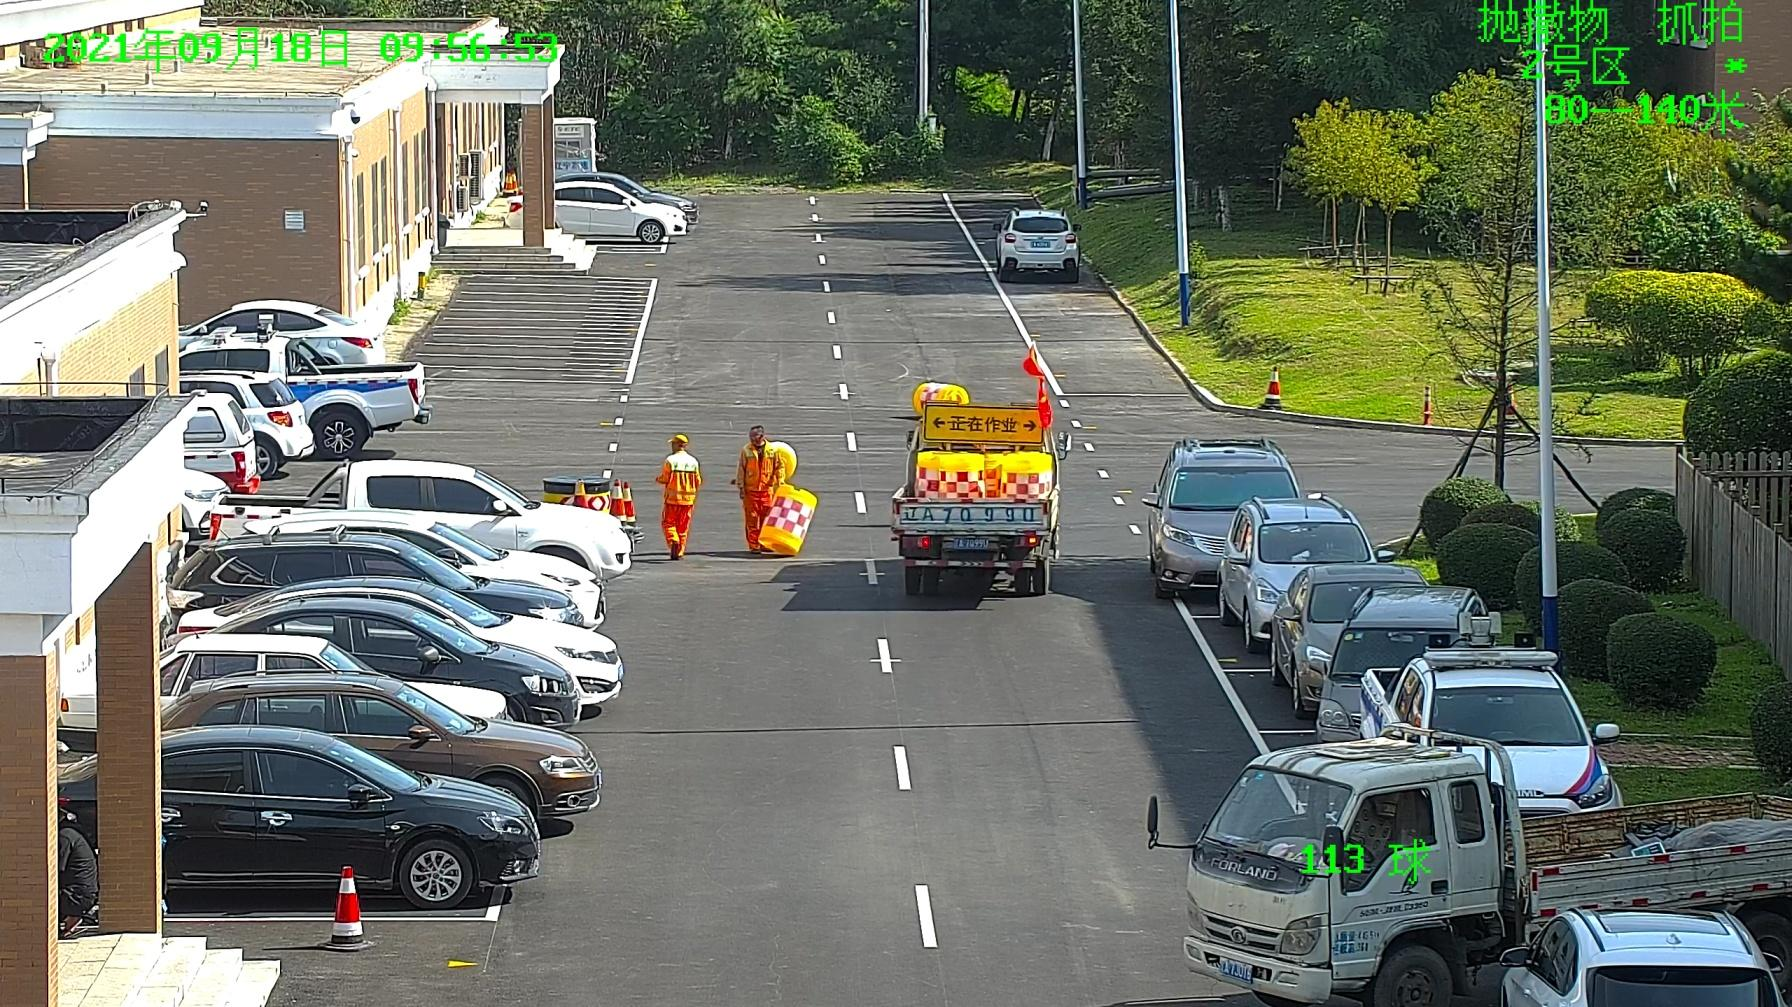cone_barrel: (761, 480, 816, 555), (939, 447, 983, 500), (1002, 451, 1051, 497), (910, 380, 967, 412), (912, 451, 940, 499)
